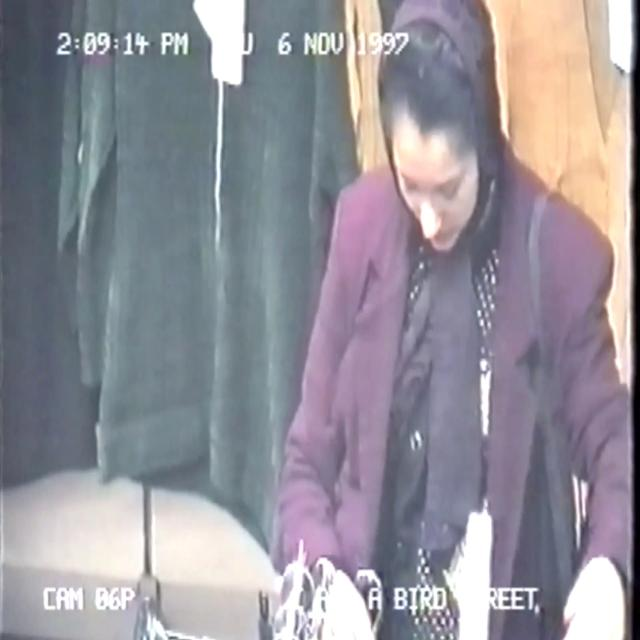normal: (250, 0, 640, 640)
